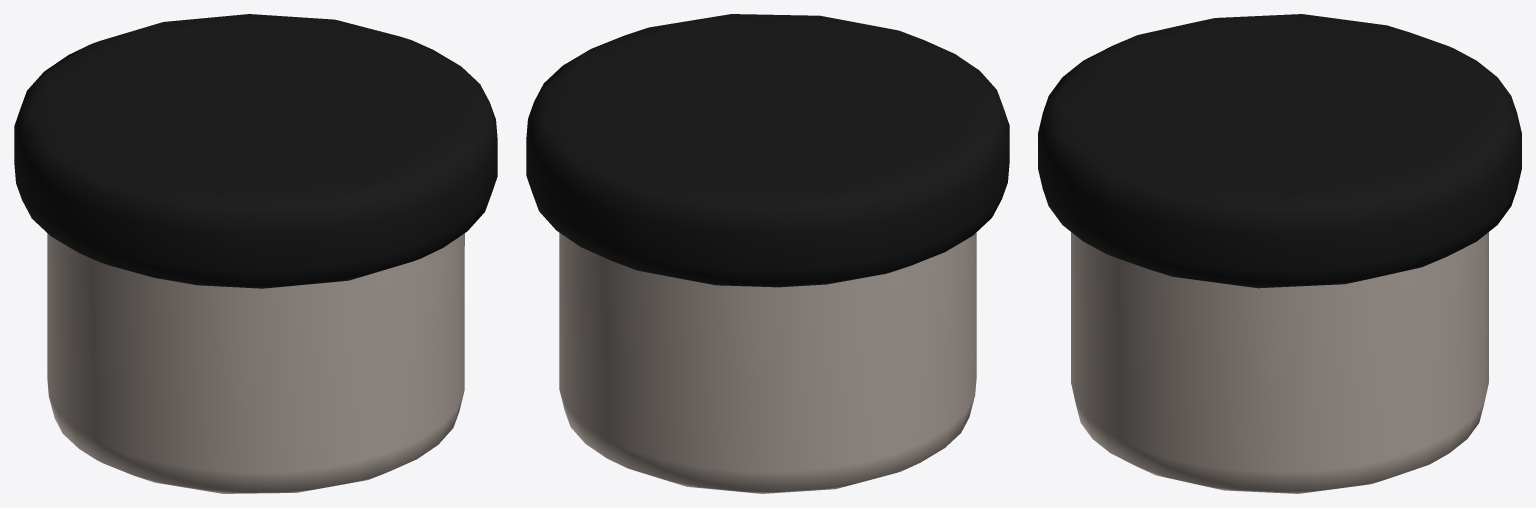
Rendered from stool_03_black.fbx.
3 views of the same model, side by side, from view 1: azimuth 30°, elevation 25°; view 2: azimuth 150°, elevation 25°; view 3: azimuth 270°, elevation 25° (orthographic).
Parts seen in each view (by area): view 1: stool_03_black; view 2: stool_03_black; view 3: stool_03_black.
Boxes of the visible parts, left/top/right/bottom form: stool_03_black: left=14, top=14, right=497, bottom=493; stool_03_black: left=526, top=14, right=1009, bottom=493; stool_03_black: left=1038, top=14, right=1521, bottom=493.
Size of the model in its own units: 56.81 by 39.98 by 56.81.
Materials: 1 (1 with a texture image).
